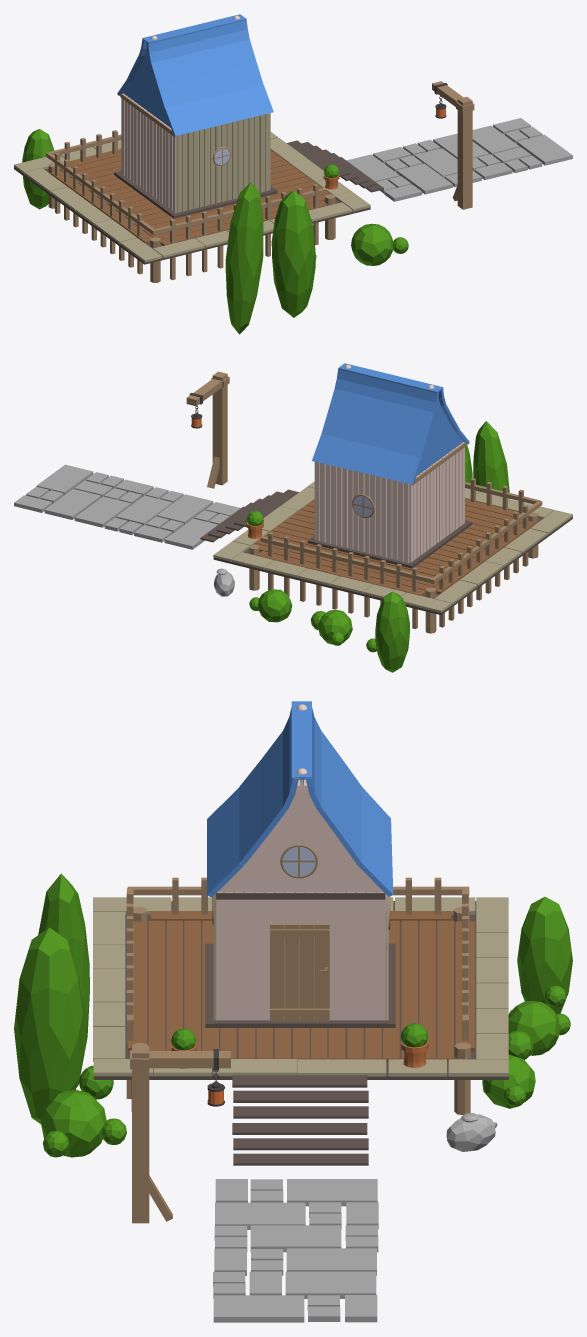
Rendered from cottage.glb.
3 renders of one model, top to bottom at view 1: azimuth 30°, elevation 25°; view 2: azimuth 150°, elevation 25°; view 3: azimuth 270°, elevation 25°, orthographic. The views are drawn at different scales.
Visible parts, largest first — view 1: Cube.078, Cube.082, Icosphere.018, Cube.083, Icosphere.020, Cylinder.008, Cube.056, Cube.047, Icosphere.013, Icosphere.005, Cube.124, Cube.101 (+28 smaller); view 2: Cube.078, Cube.081, Cube.083, Icosphere.005, Cube.053, Cube.056, Icosphere.020, Cylinder.008, Cube, Cube.054, Cube.033, Cube.123 (+34 smaller); view 3: Cube.078, Cube.080, Icosphere.018, Cube.087, Cube, Cylinder.008, Icosphere.005, Cube.077, Icosphere.020, Icosphere.013, Cube.124, Cube.035 (+55 smaller).
Part boxes in pixels (x1,y1,x2,y2): Cube.078: [117, 20, 273, 136]; Cube.082: [176, 113, 270, 212]; Icosphere.018: [271, 190, 315, 317]; Cube.083: [121, 93, 176, 213]; Icosphere.020: [225, 182, 263, 334]; Cylinder.008: [432, 81, 474, 209]; Cube.056: [55, 152, 142, 274]; Cube.047: [170, 184, 318, 280]; Icosphere.013: [351, 223, 393, 265]; Icosphere.005: [22, 129, 54, 209]; Cube.124: [516, 134, 572, 165]; Cube.101: [396, 163, 452, 194]; Cube.078: [312, 369, 469, 484]; Cube.081: [314, 461, 409, 562]; Cube.083: [409, 442, 464, 562]; Icosphere.005: [375, 591, 409, 672]; Cube.053: [268, 532, 417, 629]; Cube.056: [439, 505, 528, 627]; Icosphere.020: [473, 421, 509, 498]; Cylinder.008: [186, 371, 229, 484]; Cube: [213, 517, 572, 614]; Cube.054: [260, 536, 433, 582]; Cube.033: [256, 550, 425, 596]; Cube.123: [44, 489, 101, 519]; Cube.078: [207, 707, 393, 897]; Cube.080: [216, 892, 385, 1020]; Icosphere.018: [14, 927, 84, 1123]; Cube.087: [270, 923, 329, 1021]; Cube: [93, 901, 508, 1079]; Cylinder.008: [130, 1046, 230, 1223]; Icosphere.005: [517, 896, 572, 1013]; Cube.077: [218, 891, 383, 1020]; Icosphere.020: [38, 873, 89, 1087]; Icosphere.013: [40, 1090, 106, 1157]; Cube.124: [213, 1295, 304, 1322]; Cube.035: [437, 920, 453, 1062].
Size of what is drawn, in the model's own units: 17.68 by 8.93 by 11.55.
